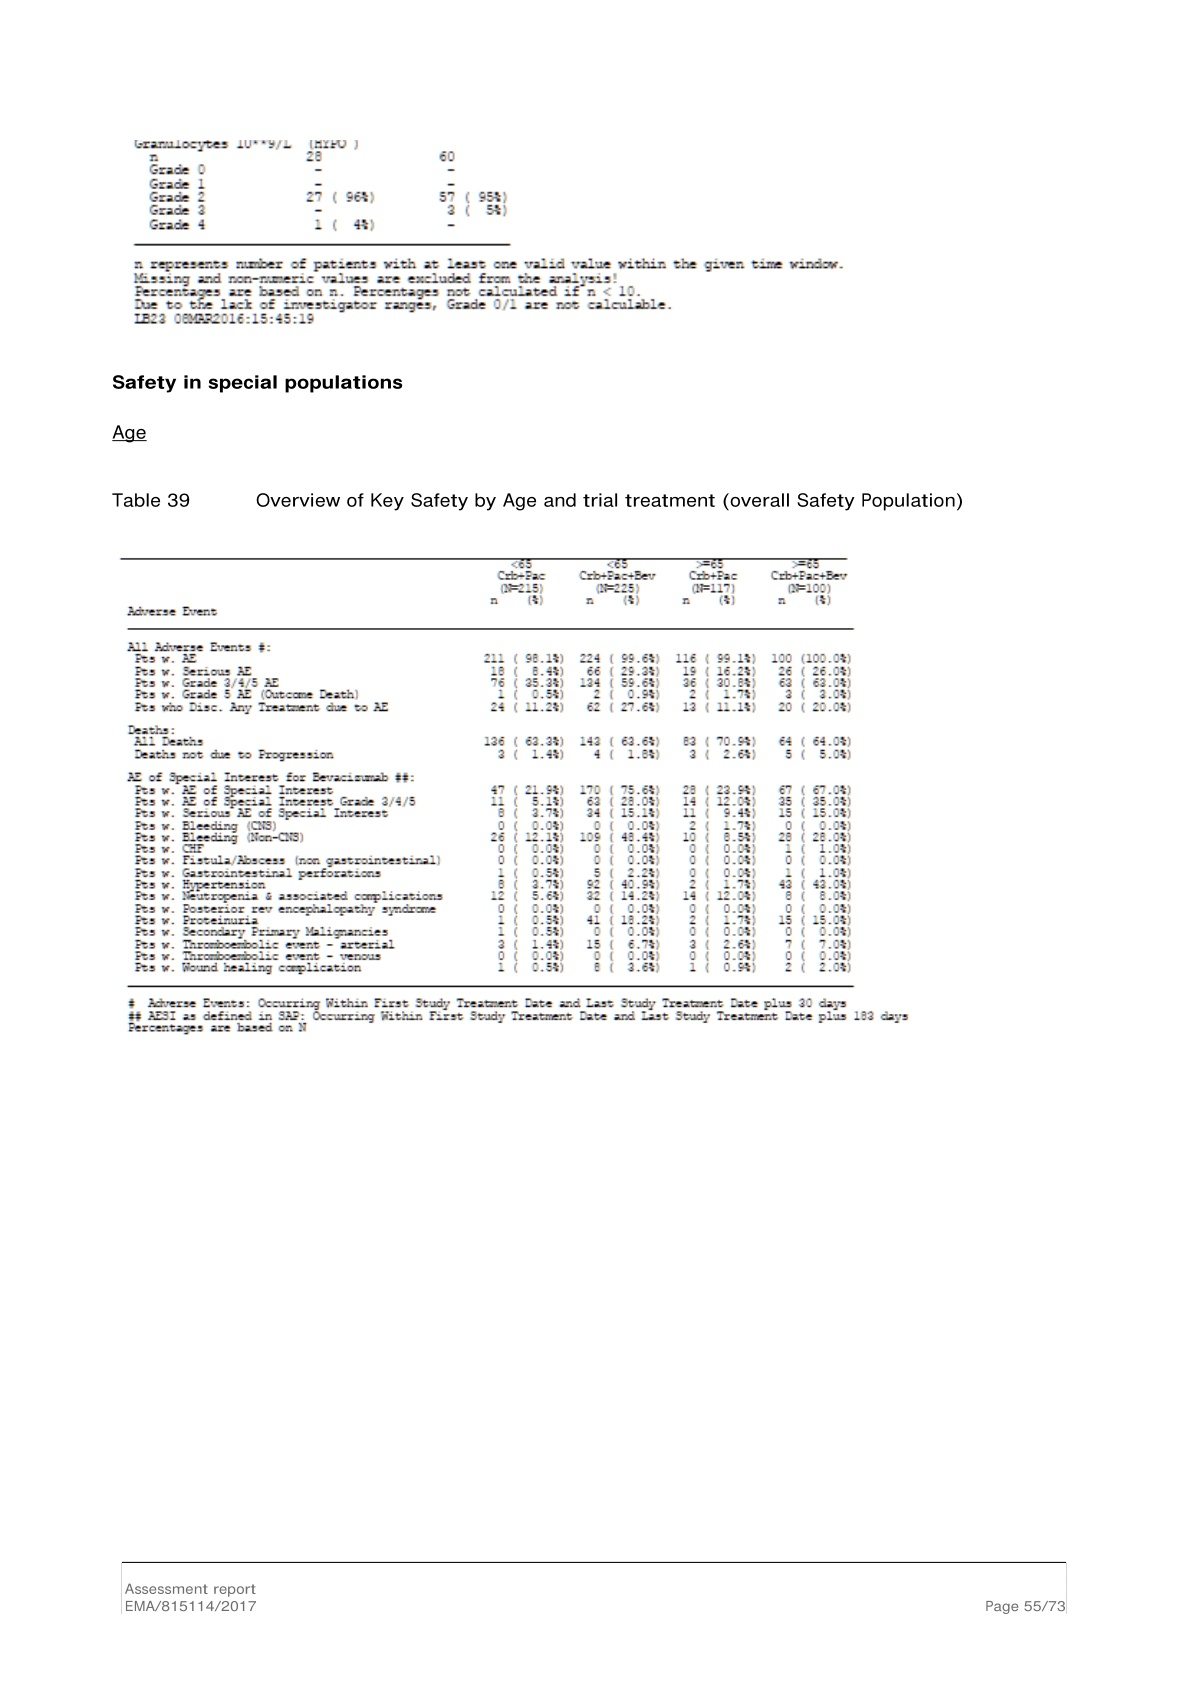partial_lined: (120, 554, 856, 990), (130, 131, 513, 246)
